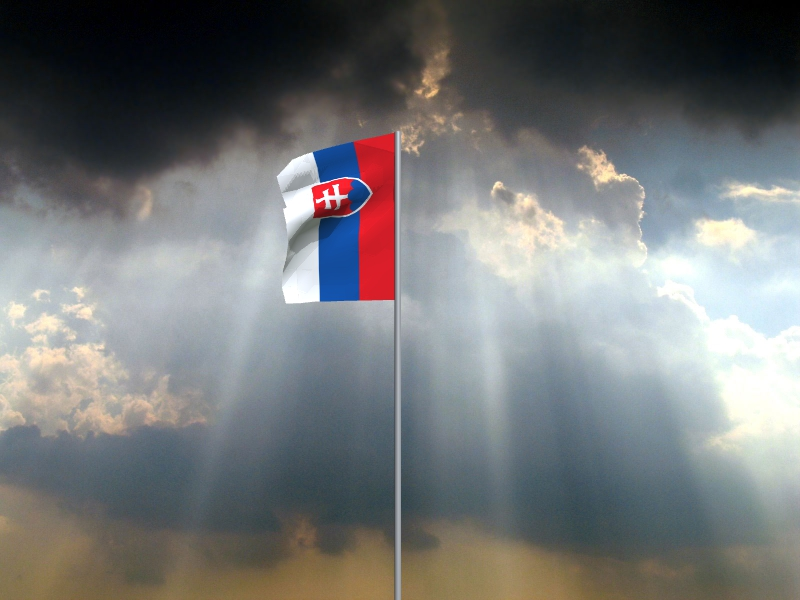sk: (277, 133, 395, 305)
